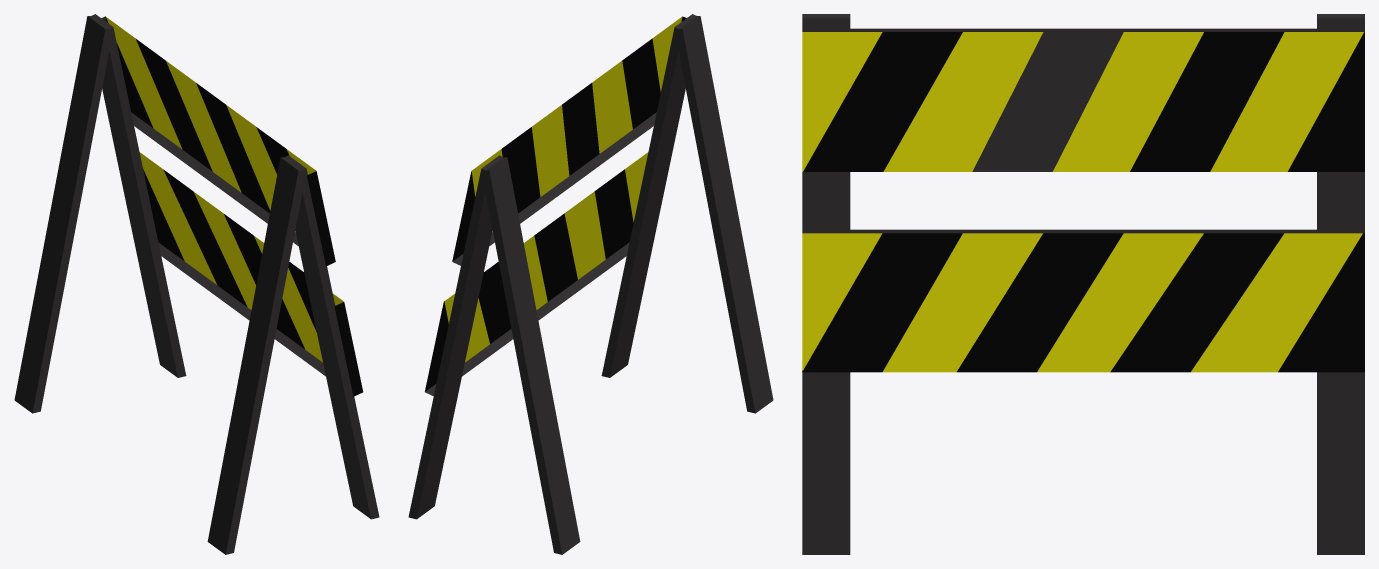
File: StopSign 1.fbx
3 views of the same model, side by side, from view 1: azimuth 30°, elevation 25°; view 2: azimuth 150°, elevation 25°; view 3: azimuth 270°, elevation 25° (orthographic). The views are drawn at different scales.
Parts seen in each view (by area): view 1: Cube.004; view 2: Cube.004; view 3: Cube.004.
Part boxes in pixels (<box>): Cube.004: <box>14,14,379,554</box>; Cube.004: <box>408,14,773,554</box>; Cube.004: <box>802,14,1364,554</box>.
Size of the model in its own units: 55.78 by 127 by 133.
